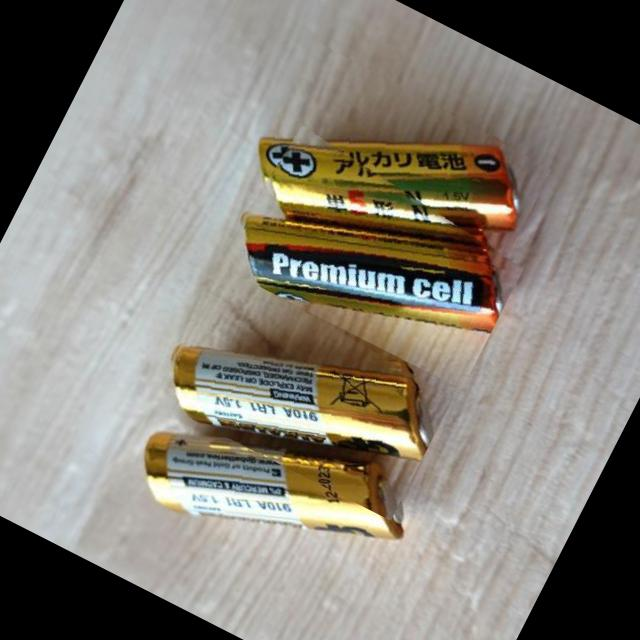Hazard: (228, 35, 556, 315), (214, 118, 536, 389), (124, 352, 437, 610), (149, 261, 460, 520)
